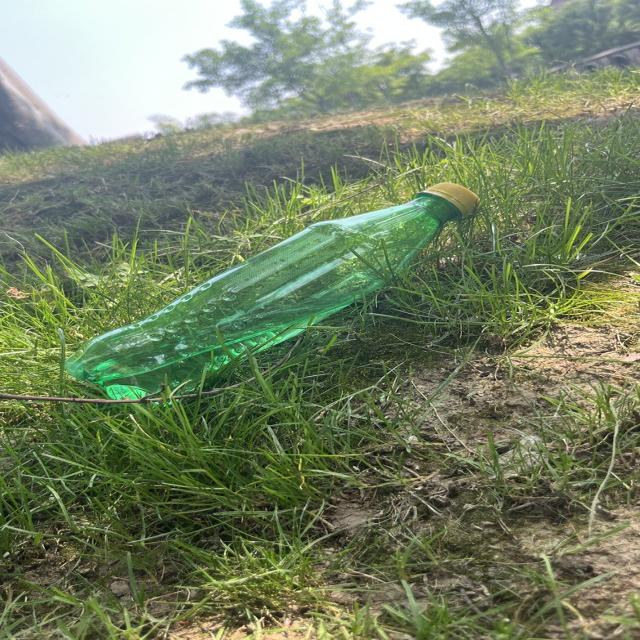low: (66, 184, 477, 398)
